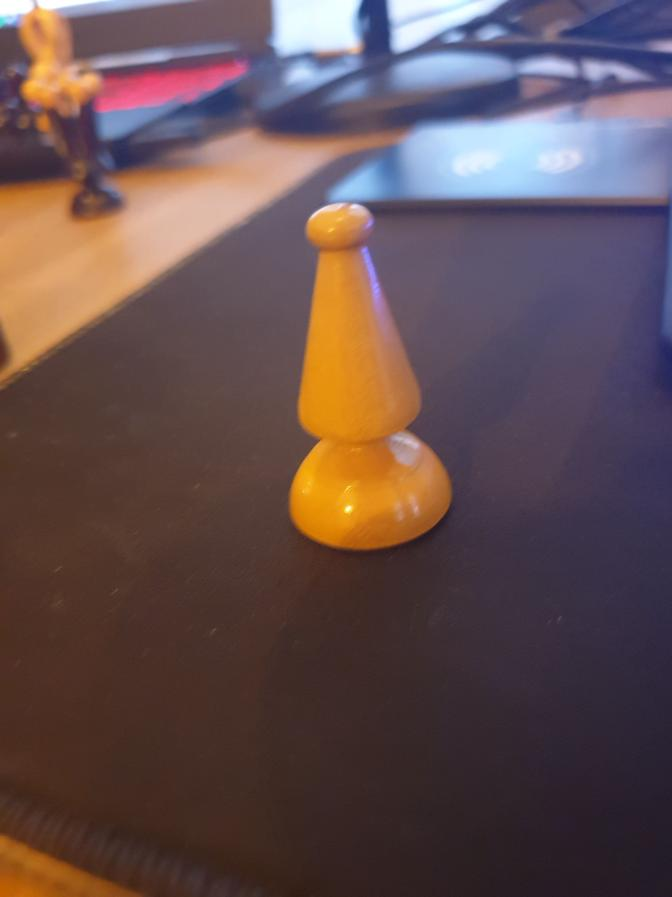wbishop: (287, 201, 453, 552)
